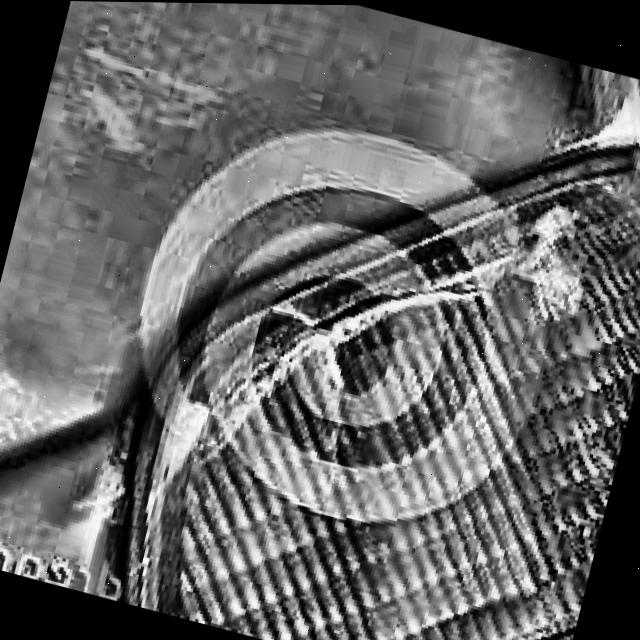tail_lamp: (185, 173, 594, 514)
